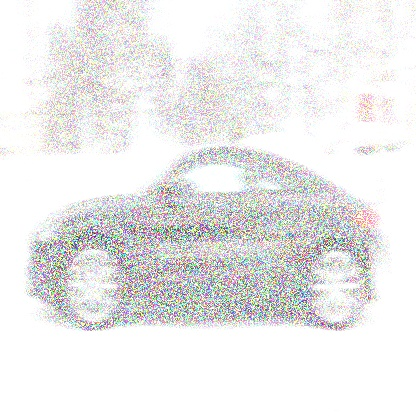Vehicle: (22, 141, 393, 333)
